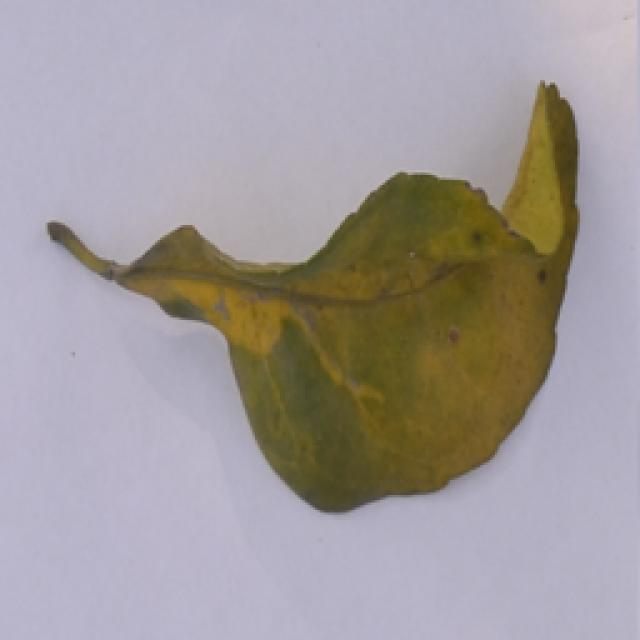greening: (40, 73, 598, 521)
